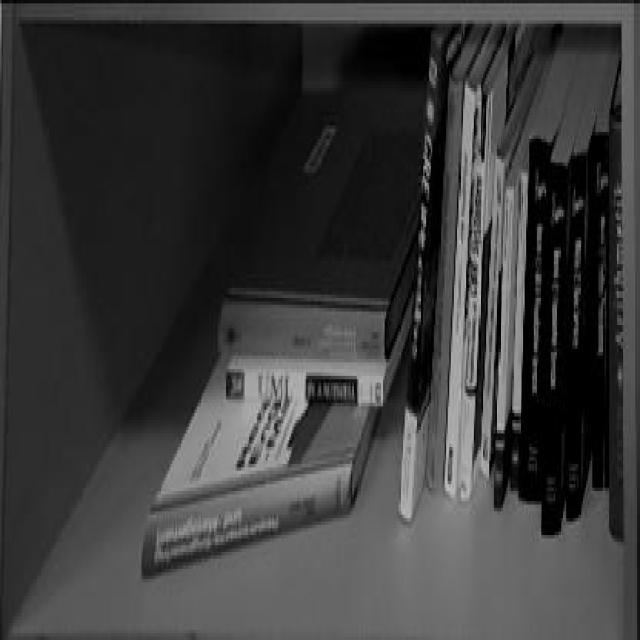book: (215, 109, 397, 356), (139, 398, 379, 579), (568, 161, 594, 513), (225, 361, 401, 403), (609, 115, 625, 528)
